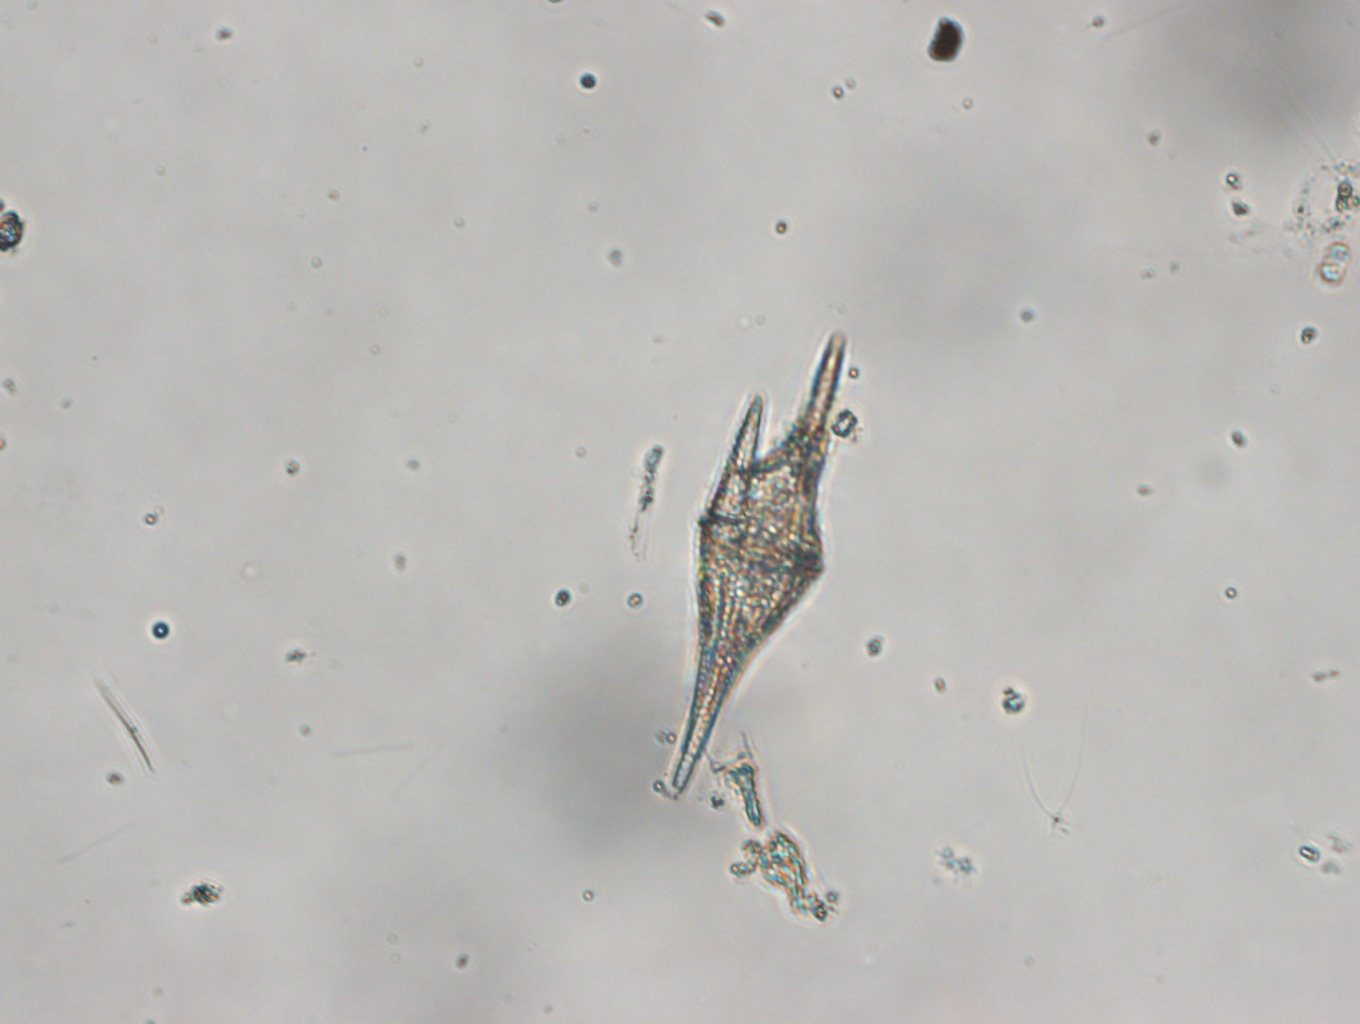ceratium furca: (668, 330, 862, 798)
